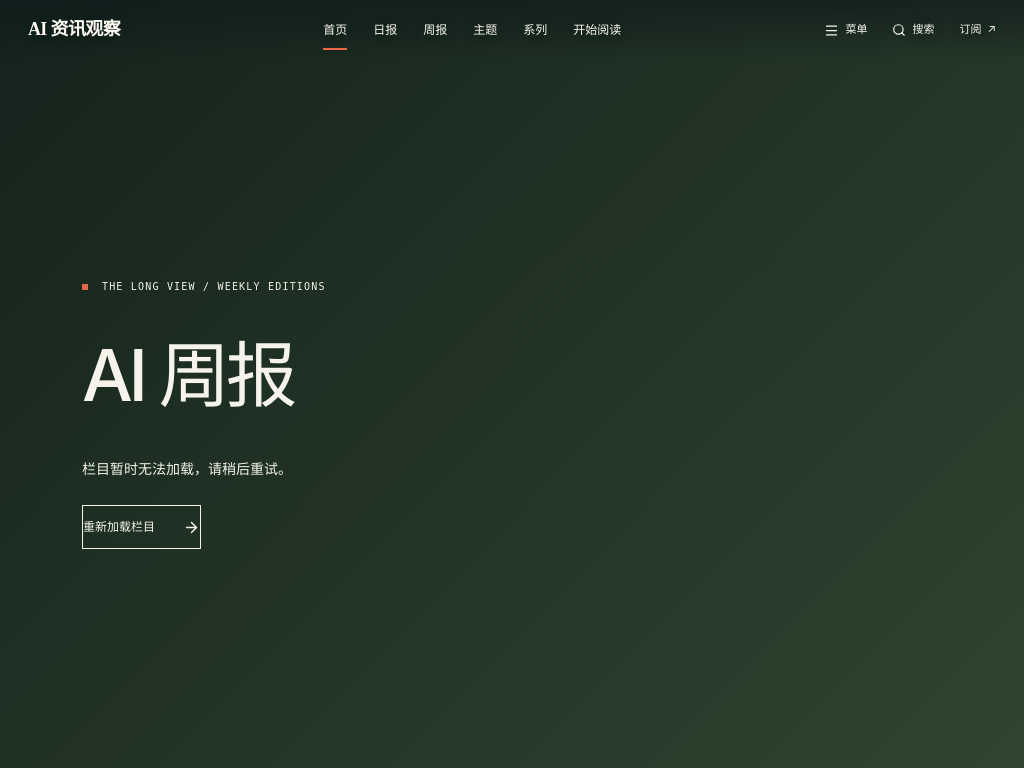
Test case: failed loads are not disguised as empty states › ContentTypePage recovers from a failed weekly_review load
This screenshot has width=1024, height=768.
Expected: the message shows "栏目暂时无法加载", [82,460,292,476]
Click the button "重新加载栏目": [141, 527] box [82,505,201,549]
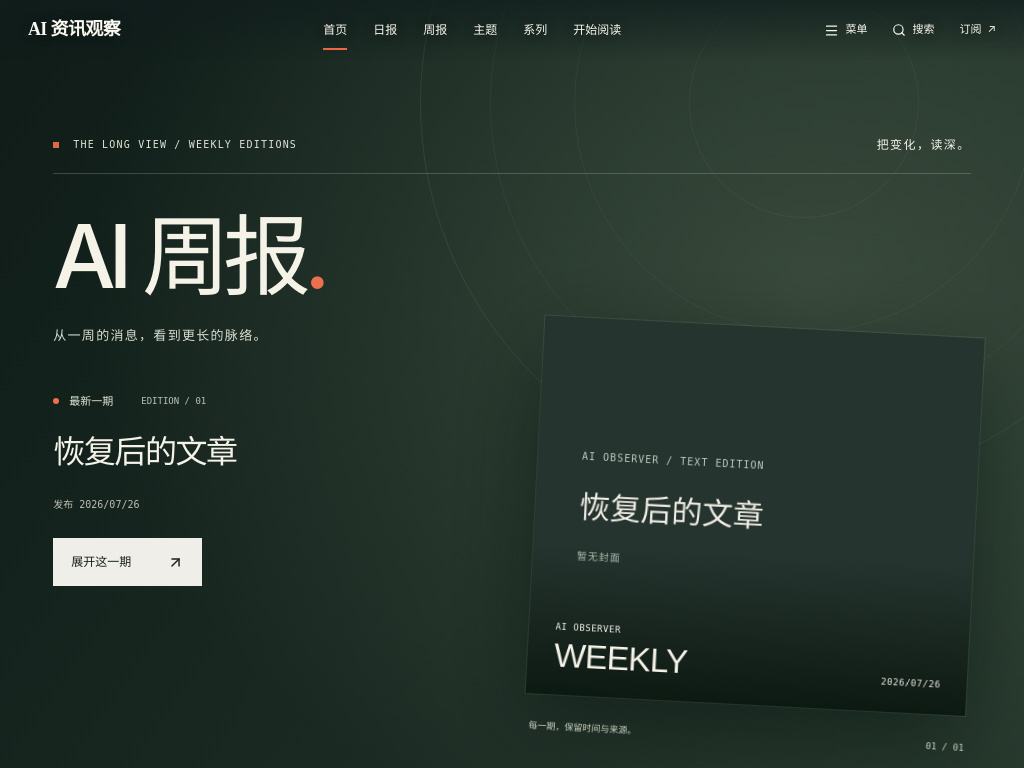
Result: the message "栏目暂时无法加载，请稍后重试。 重新加载栏目" is gone
